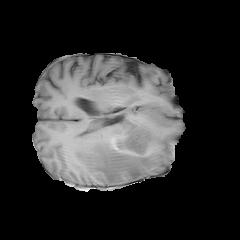glioma: (73, 117, 161, 184)
